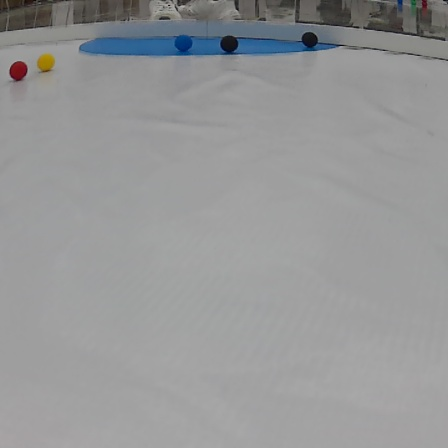black: (220, 33, 242, 53), (298, 28, 320, 47)
blue: (173, 29, 199, 51)
blue_base: (75, 37, 354, 60)
red: (7, 59, 29, 83)
yellow: (36, 53, 58, 74)
